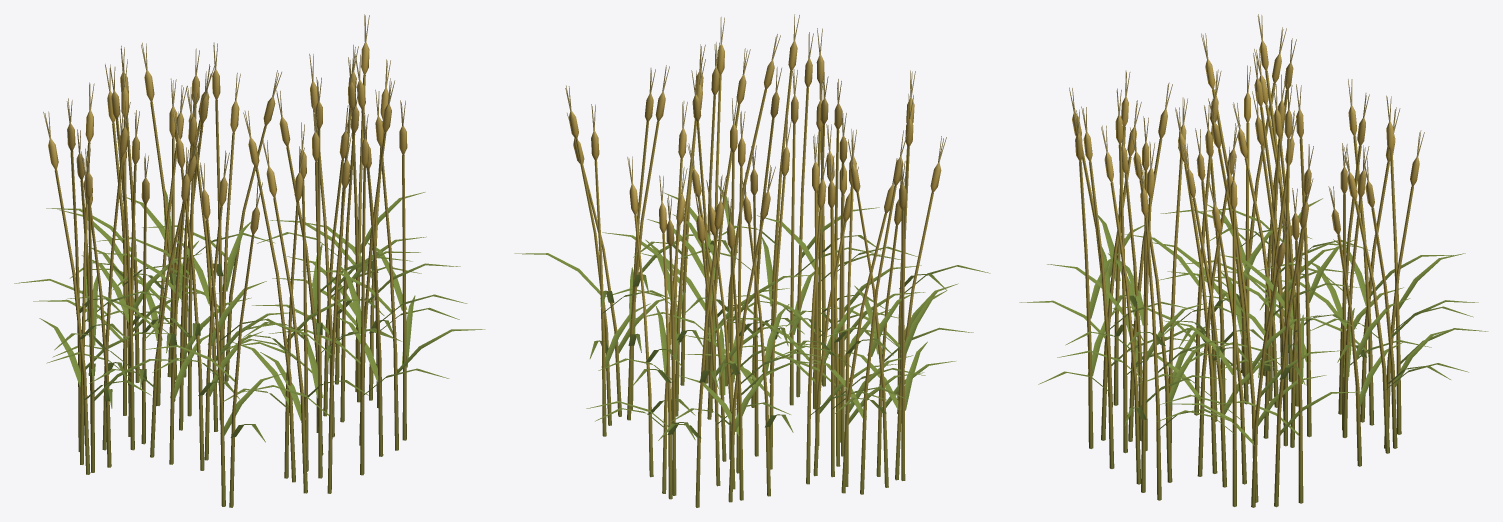
File: gandum_rumpun.glb
The picture shows the model from 3 angles, left to right: view 1: azimuth 30°, elevation 25°; view 2: azimuth 150°, elevation 25°; view 3: azimuth 270°, elevation 25°; orthographic projection. The views are drawn at different scales.
Visible parts, largest first — view 1: gandum_rumpun; view 2: gandum_rumpun; view 3: gandum_rumpun.
Part boxes in pixels (<box>): gandum_rumpun: <box>14,14,485,507</box>; gandum_rumpun: <box>514,14,990,507</box>; gandum_rumpun: <box>1019,14,1488,507</box>.
Size of the model in its own units: 1.45 by 1.23 by 1.45.
